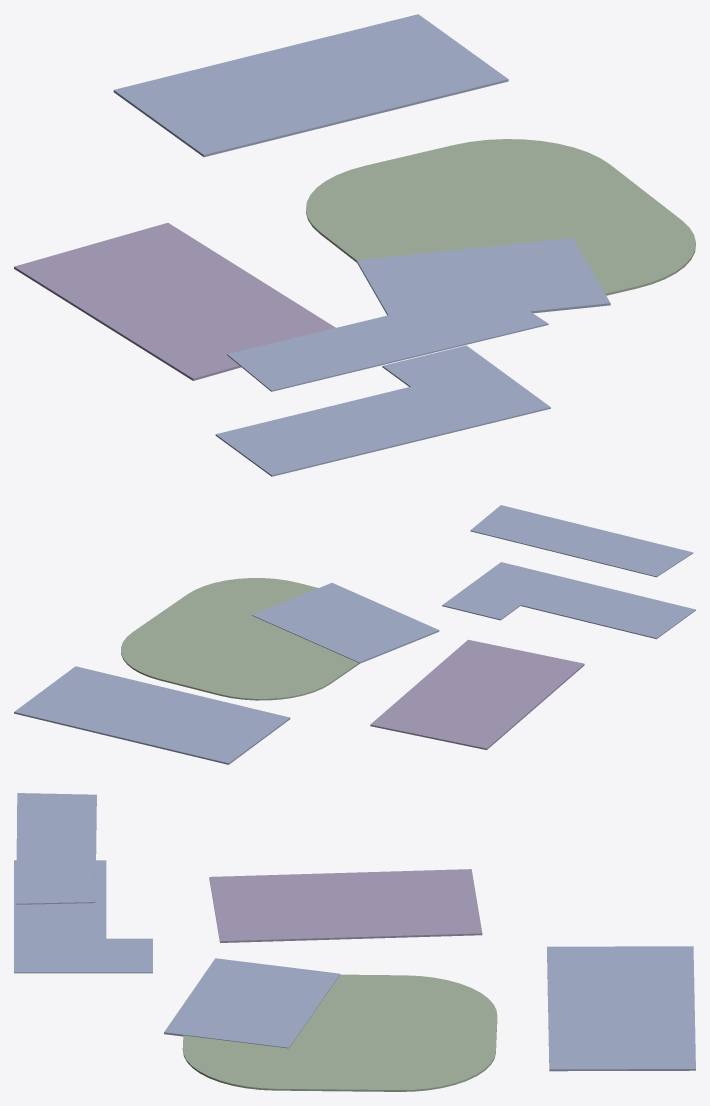
The model's file is rugs.fbx.
The picture shows the model from 3 angles, top to bottom: view 1: azimuth 30°, elevation 25°; view 2: azimuth 150°, elevation 25°; view 3: azimuth 270°, elevation 25°; orthographic projection. The views are drawn at different scales.
Parts seen in each view (by area): view 1: pCube256, pCube259, pCube258, pPlane12, pPlane13, pCube257; view 2: pCube256, pCube259, pCube258, pPlane12, pCube257, pPlane13; view 3: pCube256, pCube259, pCube258, pCube257, pPlane13, pPlane12.
Boxes of the visible parts, x1,y1,x2,y2 form: pCube256: (306,139,695,295); pCube259: (113,14,508,157); pCube258: (14,223,335,380); pPlane12: (215,345,550,476); pPlane13: (227,289,548,391); pCube257: (356,238,610,315); pCube256: (121,578,358,700); pCube259: (14,666,290,764); pCube258: (370,639,584,749); pPlane12: (442,562,695,639); pCube257: (252,583,439,663); pPlane13: (470,505,693,577); pCube256: (182,974,497,1091); pCube259: (547,946,695,1071); pCube258: (209,869,482,942); pCube257: (164,958,340,1048); pPlane13: (16,793,96,904); pPlane12: (14,860,152,973).
Size of the model in its own units: 1544 by 220 by 1940.
